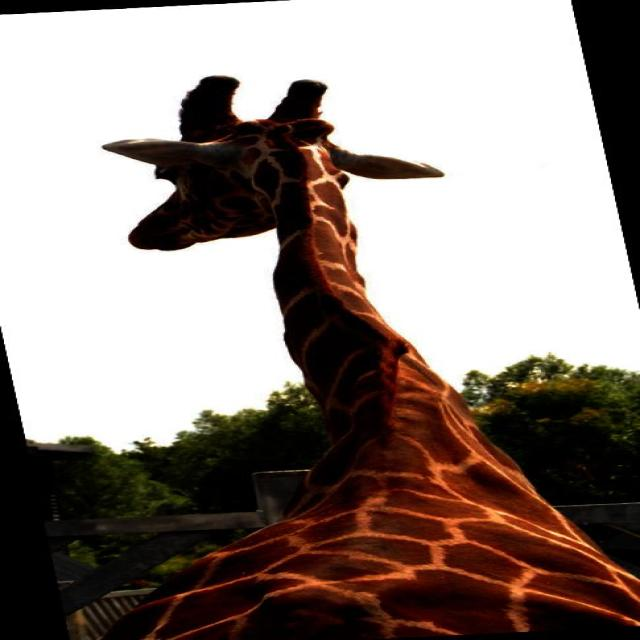Giraffe: (66, 69, 640, 640)
